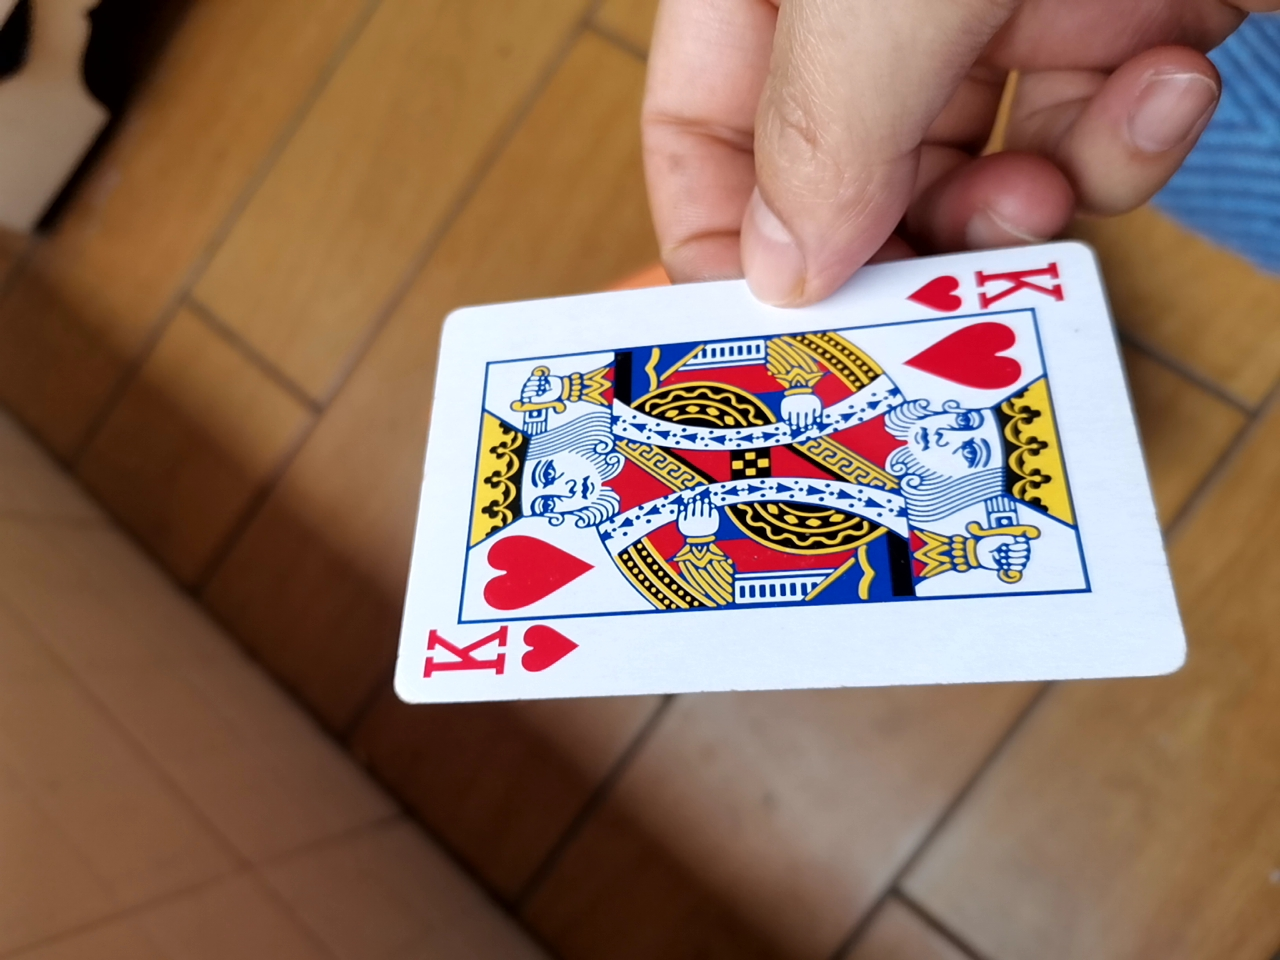hx k: (376, 250, 1177, 710)
